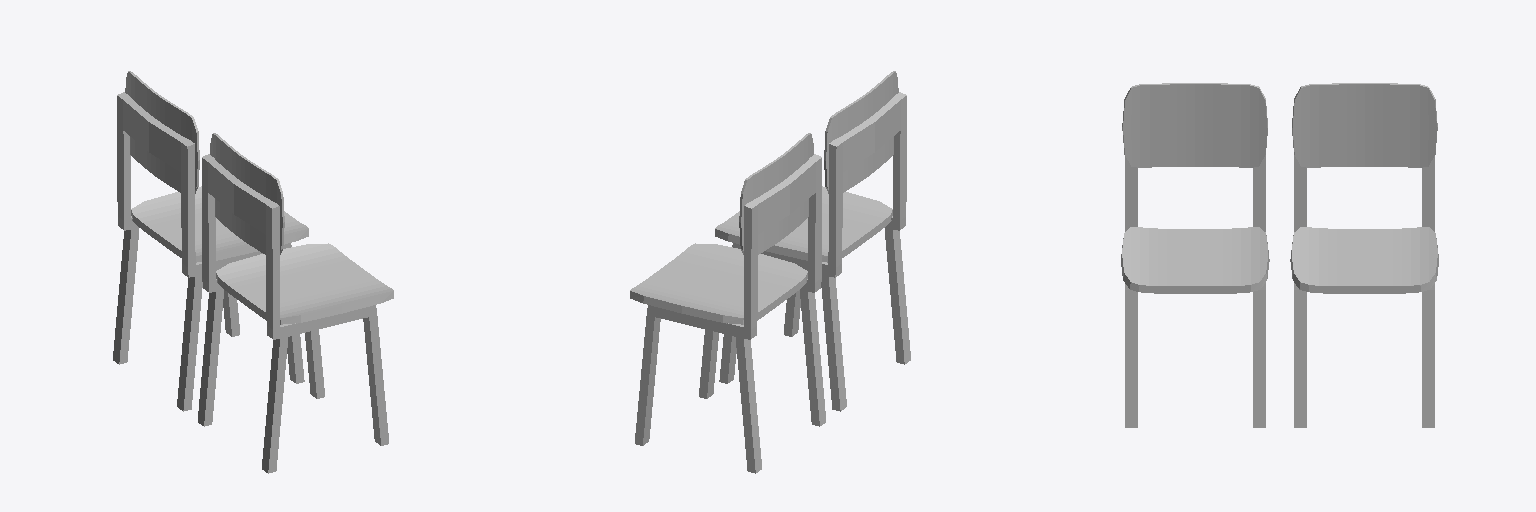
The model's file is SillasD_IzqUno.obj.
3 views of the same model, side by side, from view 1: azimuth 30°, elevation 25°; view 2: azimuth 150°, elevation 25°; view 3: azimuth 270°, elevation 25° (orthographic).
Visible parts, largest first — view 1: pasted__pasted__pasted__pasted__pasted__group7_pasted__pasted__p; view 2: pasted__pasted__pasted__pasted__pasted__group7_pasted__pasted__p; view 3: pasted__pasted__pasted__pasted__pasted__group7_pasted__pasted__p.
Part boxes in pixels (x1,y1,x2,y2): pasted__pasted__pasted__pasted__pasted__group7_pasted__pasted__p: (113,71,393,473); pasted__pasted__pasted__pasted__pasted__group7_pasted__pasted__p: (630,71,910,473); pasted__pasted__pasted__pasted__pasted__group7_pasted__pasted__p: (1121,83,1438,427).
Size of the model in its own units: 0.8412 by 1.78 by 1.77.